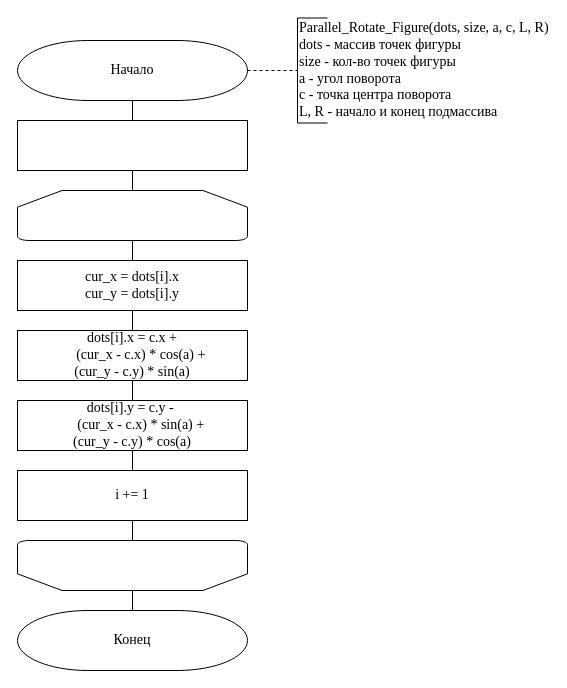
Image size: 567x688. Some labels were removed from this diagram. Here are the shapes that lost their labels. From the top down, the box of each, then its label:
(16, 120, 248, 170): i = L
(16, 190, 248, 240): Цикл по i i < R
(16, 540, 248, 590): Конец цикла по i
